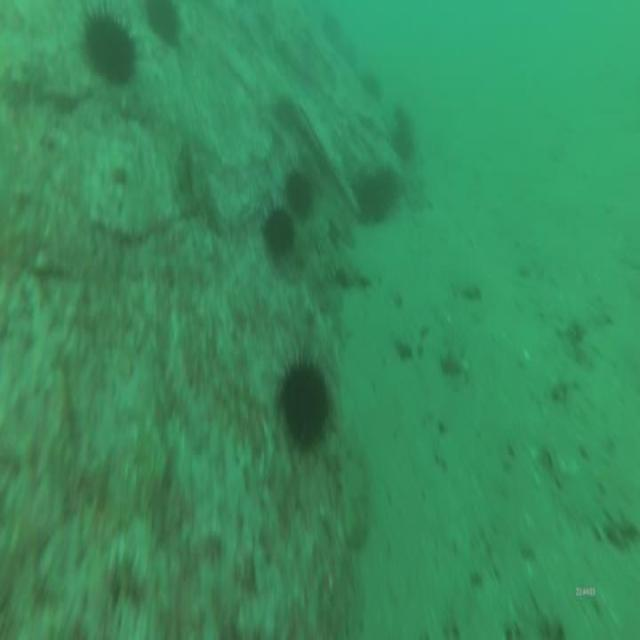echinus: (274, 351, 337, 460), (78, 2, 139, 96), (258, 200, 298, 266), (353, 167, 391, 234), (142, 0, 188, 52), (281, 163, 314, 223), (391, 114, 418, 163), (358, 65, 386, 106), (333, 33, 358, 71), (319, 9, 343, 46)
